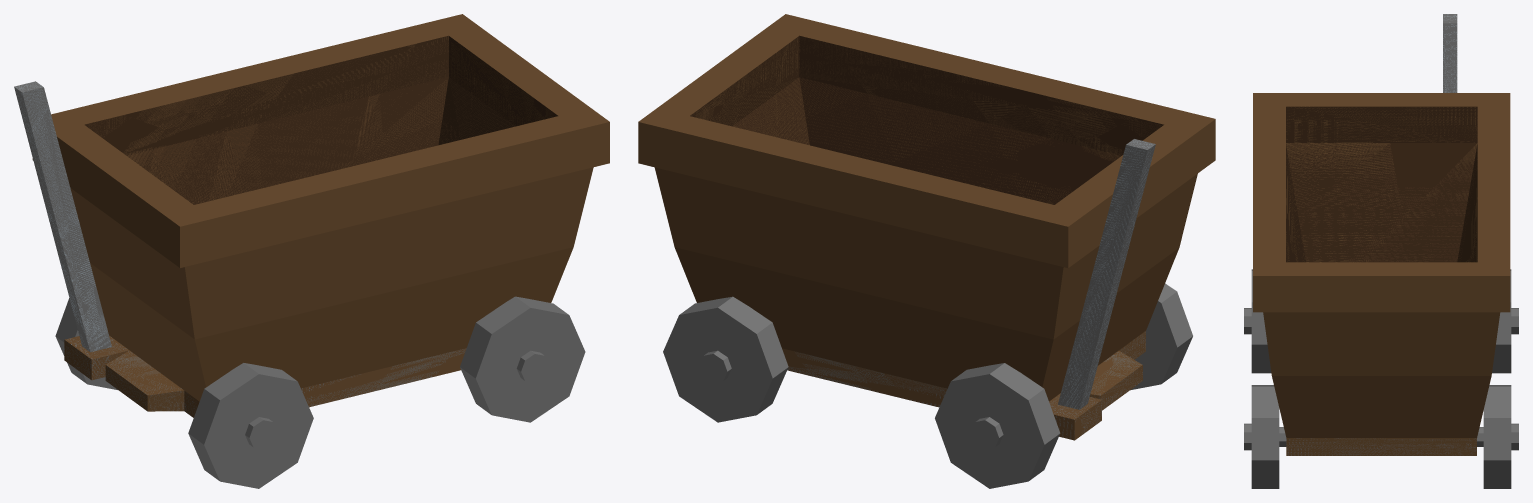
File: Mine_Cart_01.fbx
3 views of the same model, side by side, from view 1: azimuth 30°, elevation 25°; view 2: azimuth 150°, elevation 25°; view 3: azimuth 270°, elevation 25° (orthographic). The views are drawn at different scales.
Parts seen in each view (by area): view 1: Model; view 2: Model; view 3: Model.
Part boxes in pixels (x1,y1,x2,y2): Model: (14,14,609,488); Model: (638,14,1215,488); Model: (1244,14,1518,488).
Bounding box in the file's own units: 506 × 351 × 288.
